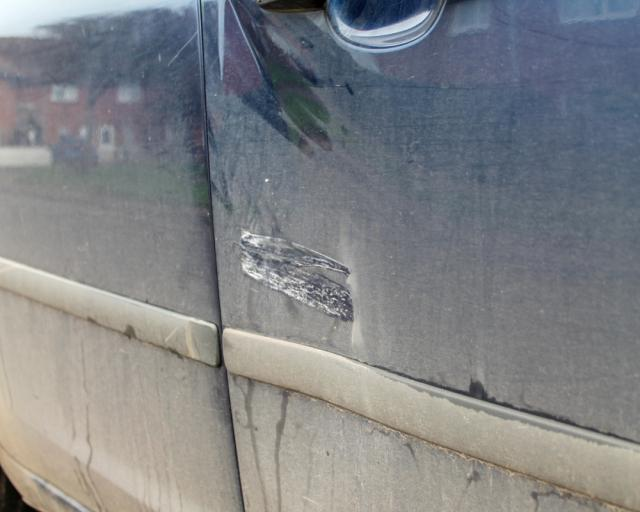scratch: (237, 226, 357, 325)
